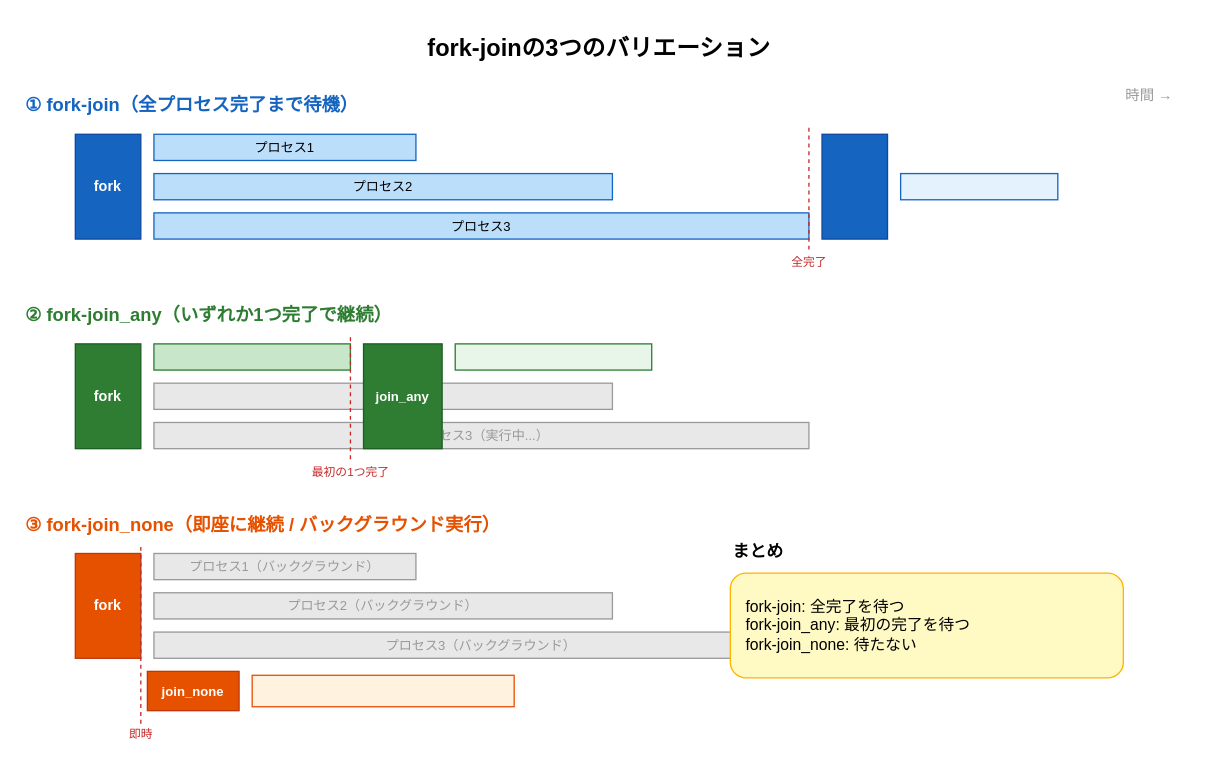
Image size: 1224x765. Some labels were removed from this diagram. Each missing label, with the box of its shape:
join: (821, 133, 888, 239)
プロセス1（最短）: (153, 343, 350, 370)
プロセス2（実行中...）: (153, 382, 612, 409)
即座に継続（待機なし）: (251, 674, 514, 707)
継続: (899, 172, 1058, 200)
継続（他は実行中）: (454, 343, 652, 370)
